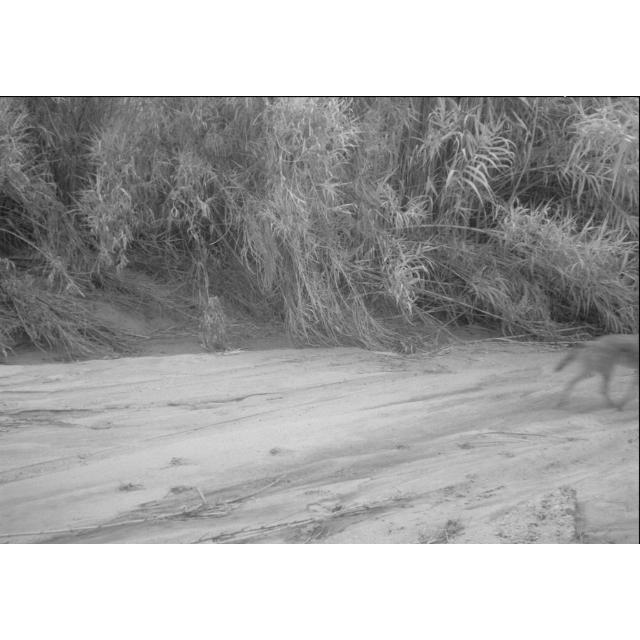animals: (554, 331, 640, 413)
